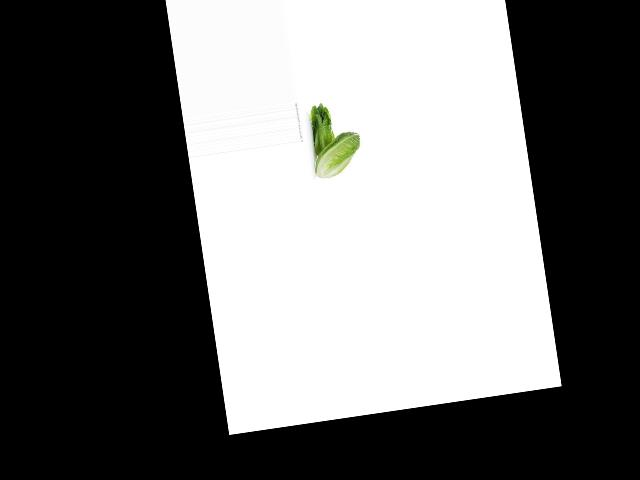lettuce: (301, 101, 341, 157)
